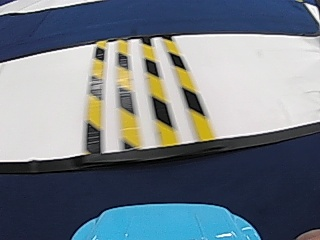bump: (76, 47, 214, 139)
